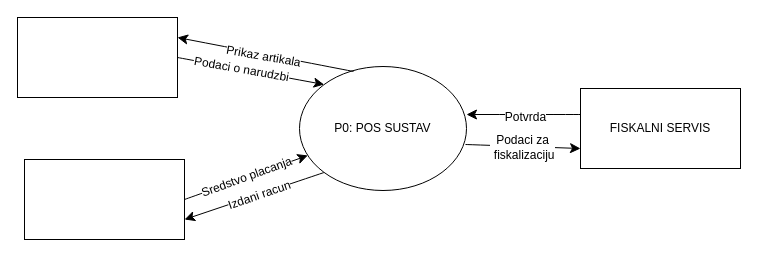
Image size: 758x257. Some labels were removed from this diagram. Here are the shapes that lost their labels. From the top down, the centre of each, then its label:
(x=97, y=57): BLAGAJNIK
(x=104, y=199): KUPAC
